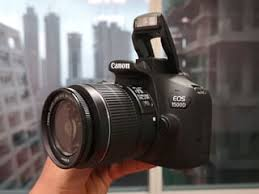camera: (41, 58, 210, 167)
